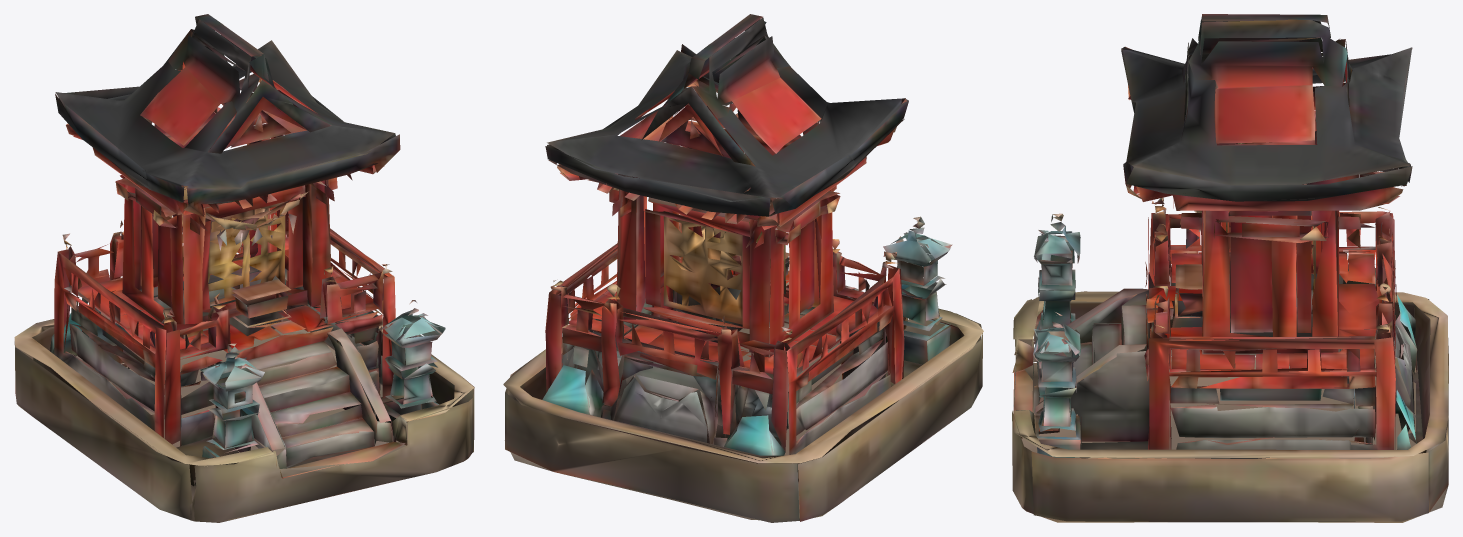
File: Shrine_town.glb
3 views of the same model, side by side, from view 1: azimuth 30°, elevation 25°; view 2: azimuth 150°, elevation 25°; view 3: azimuth 270°, elevation 25° (orthographic). The views are drawn at different scales.
Parts seen in each view (by area): view 1: Shrine; view 2: Shrine; view 3: Shrine.
Part boxes in pixels (left/top/right/bottom): Shrine: left=14, top=14, right=474, bottom=522; Shrine: left=503, top=14, right=983, bottom=522; Shrine: left=1012, top=14, right=1448, bottom=522.
Bounding box in the file's own units: 1.69 × 2 × 1.87.
1 material, 1 textured.
